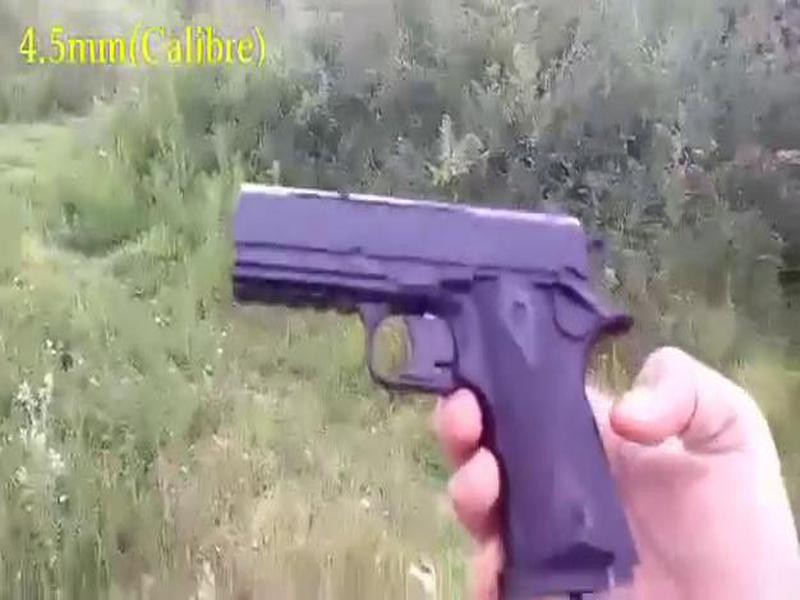Pistola: (213, 154, 685, 600)
